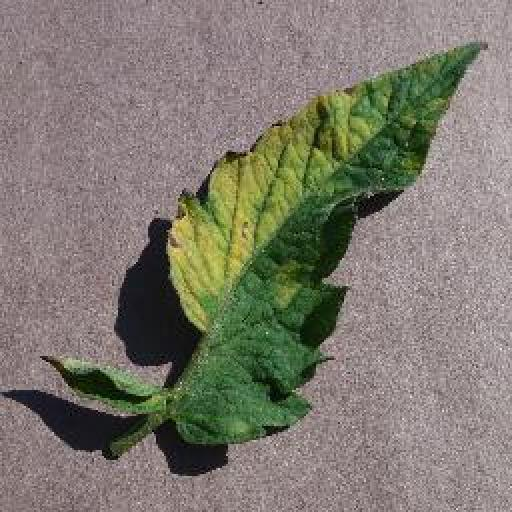Leaf Mold: (160, 38, 491, 446)
